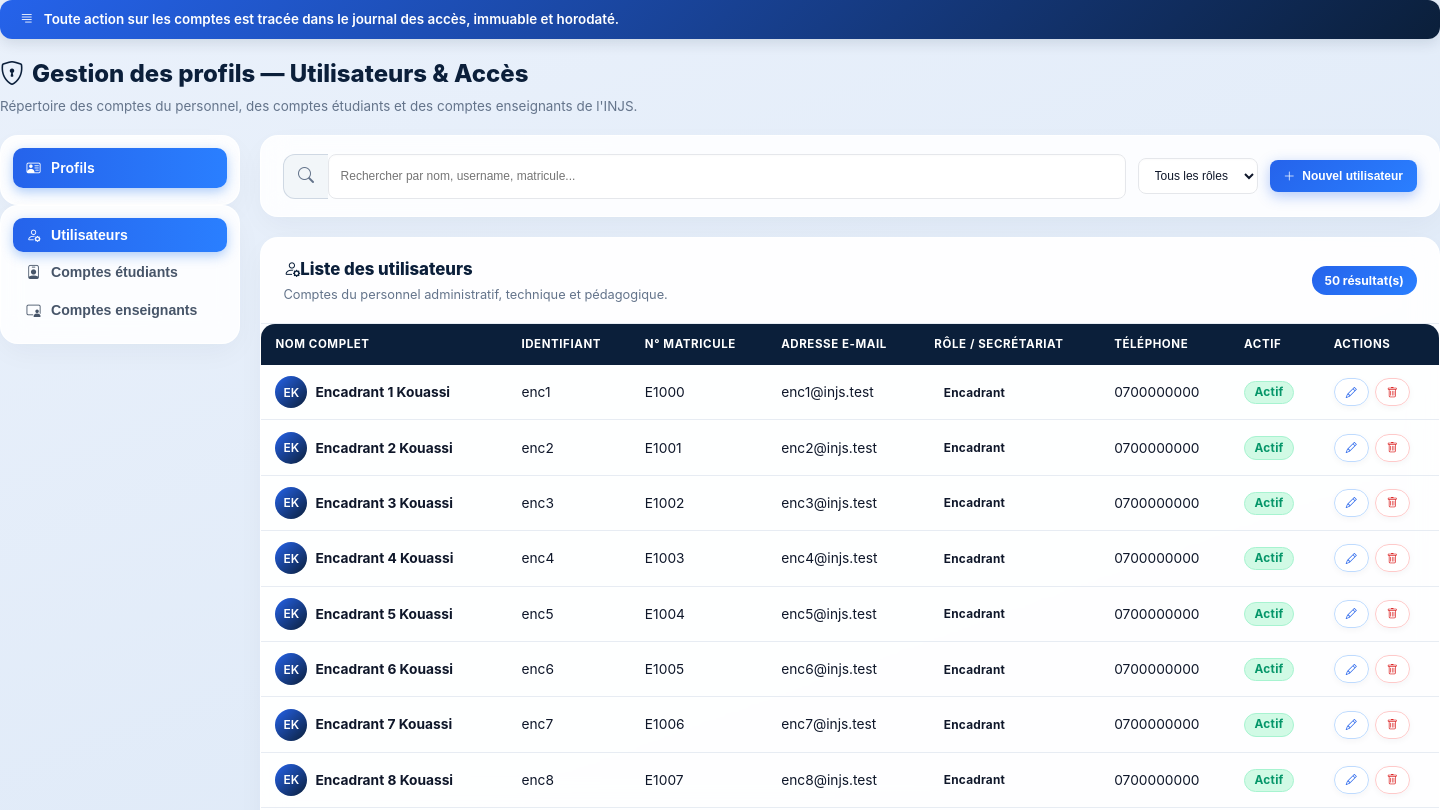
Scenario: pages/Users.jsx — liste serveur (recherche, filtres, onglets, pagination) › crée un utilisateur personnel (POST) avec les champs requis et notifie
This screenshot has width=1440, height=810.
Click the button "Nouvel utilisateur": (1343, 176) [1270, 160, 1417, 192]
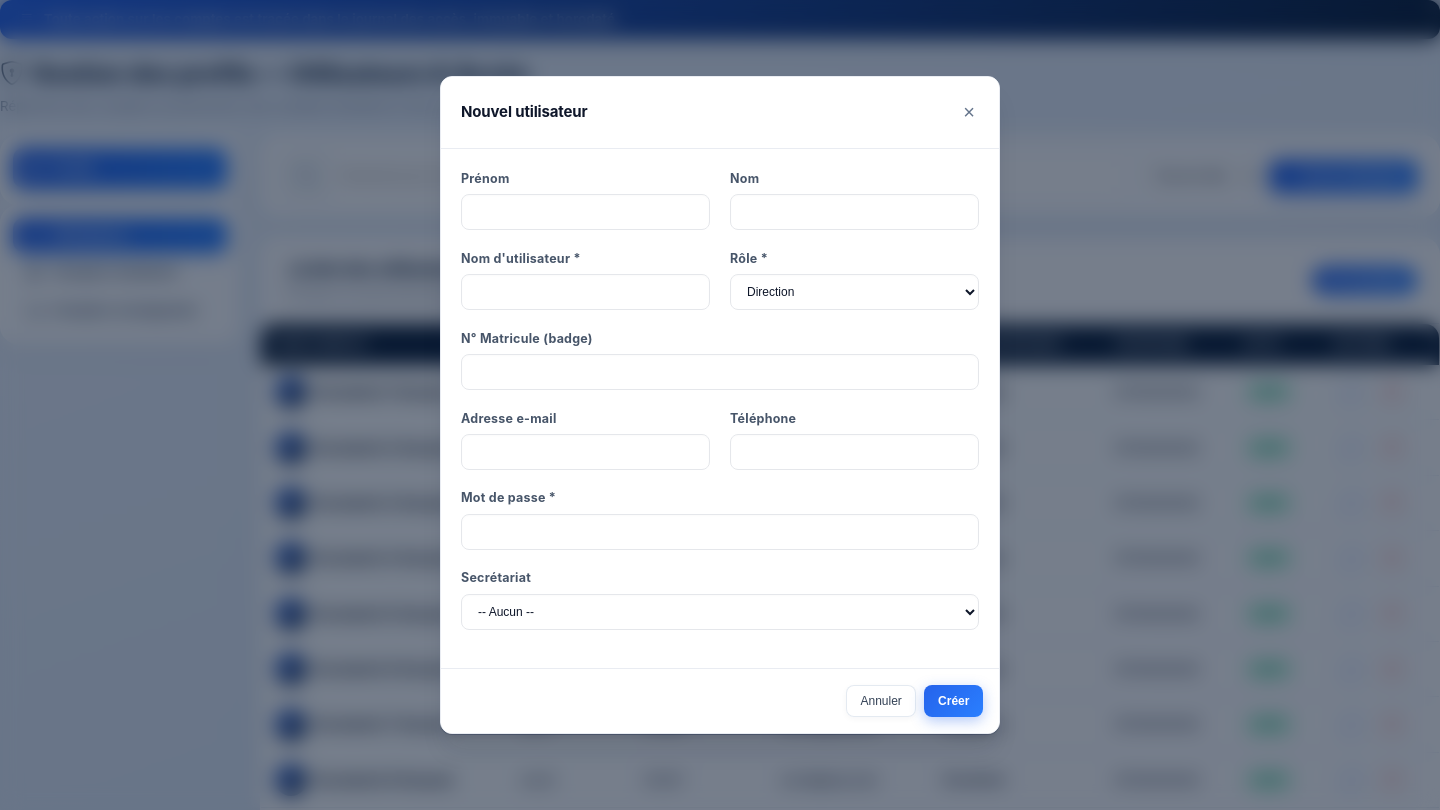
In the field below "Nom d'utilisateur *": (586, 292) [461, 274, 710, 310], type "newenc"
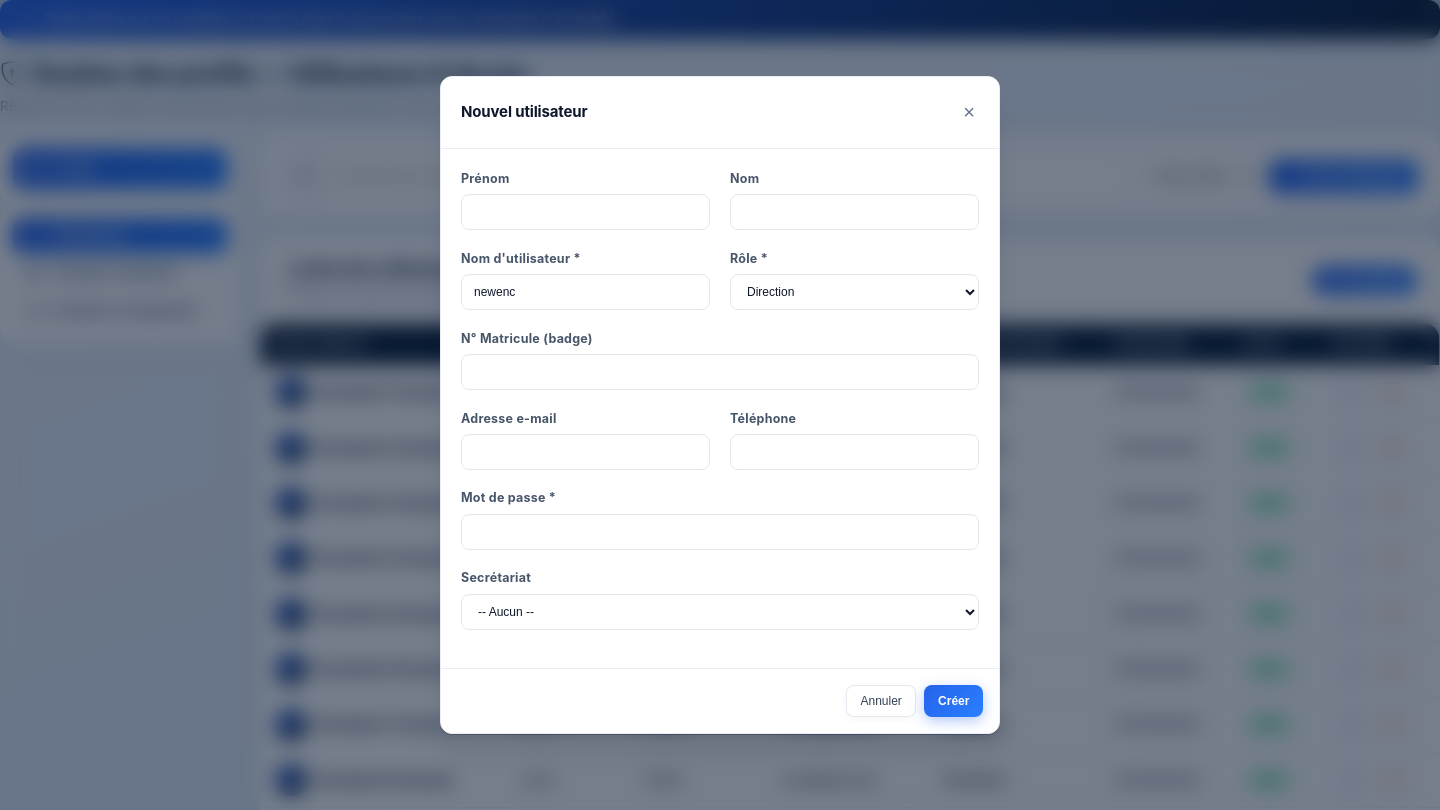
In the password field: (720, 532) [461, 514, 979, 550], type "Secret-123"
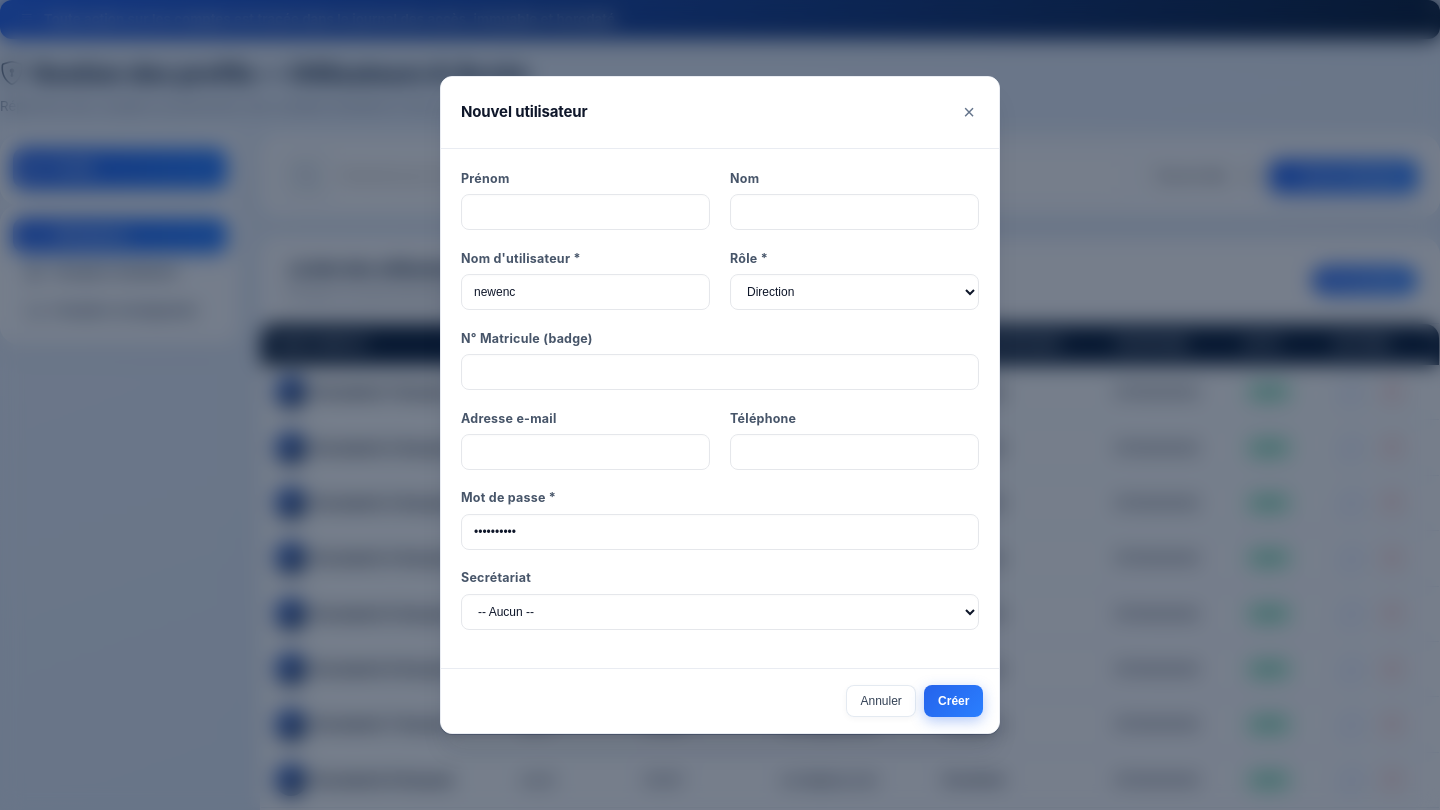
Click the button "Créer": (954, 701) [924, 685, 983, 717]
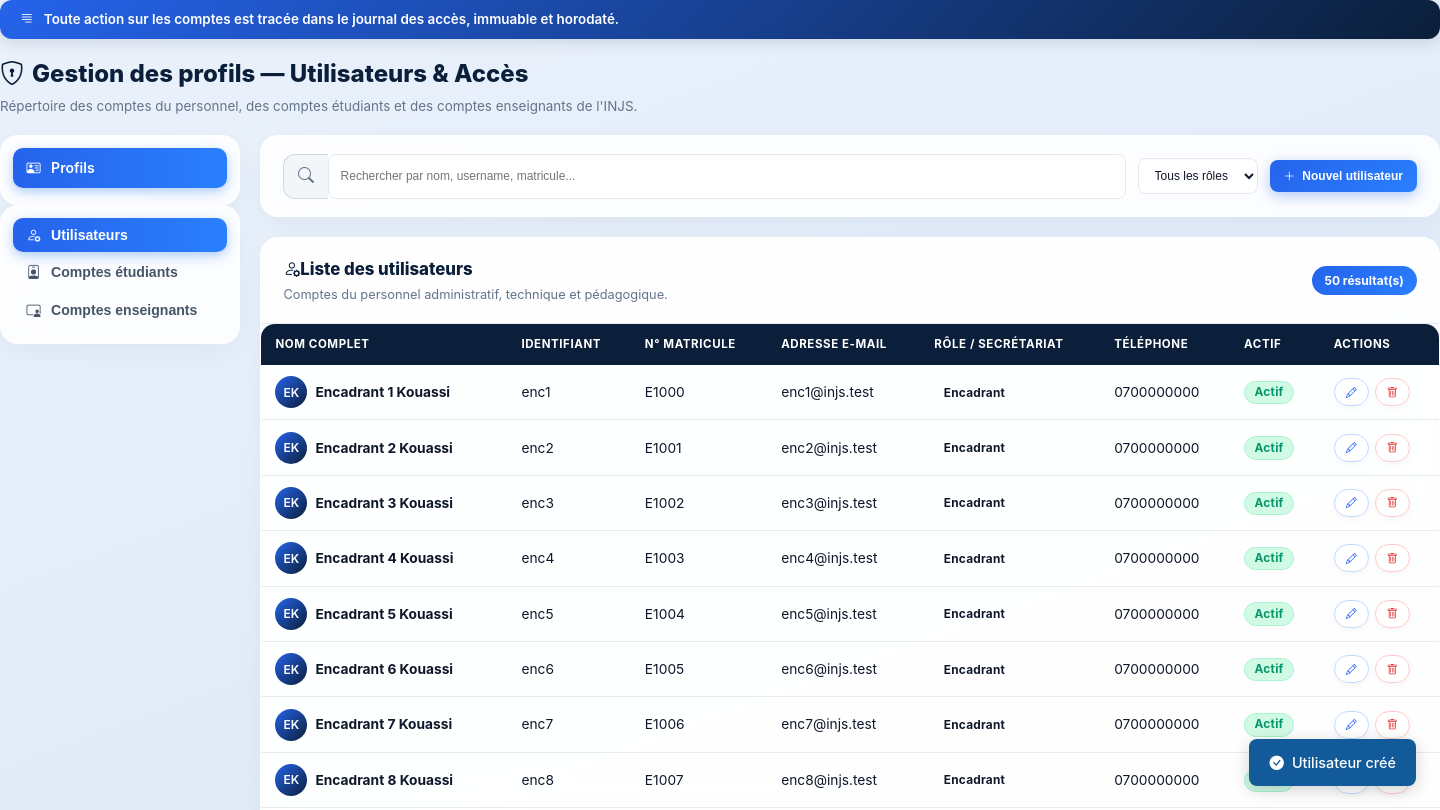
Expected: the text "Utilisateur créé" is shown, [1250, 739, 1416, 786]
